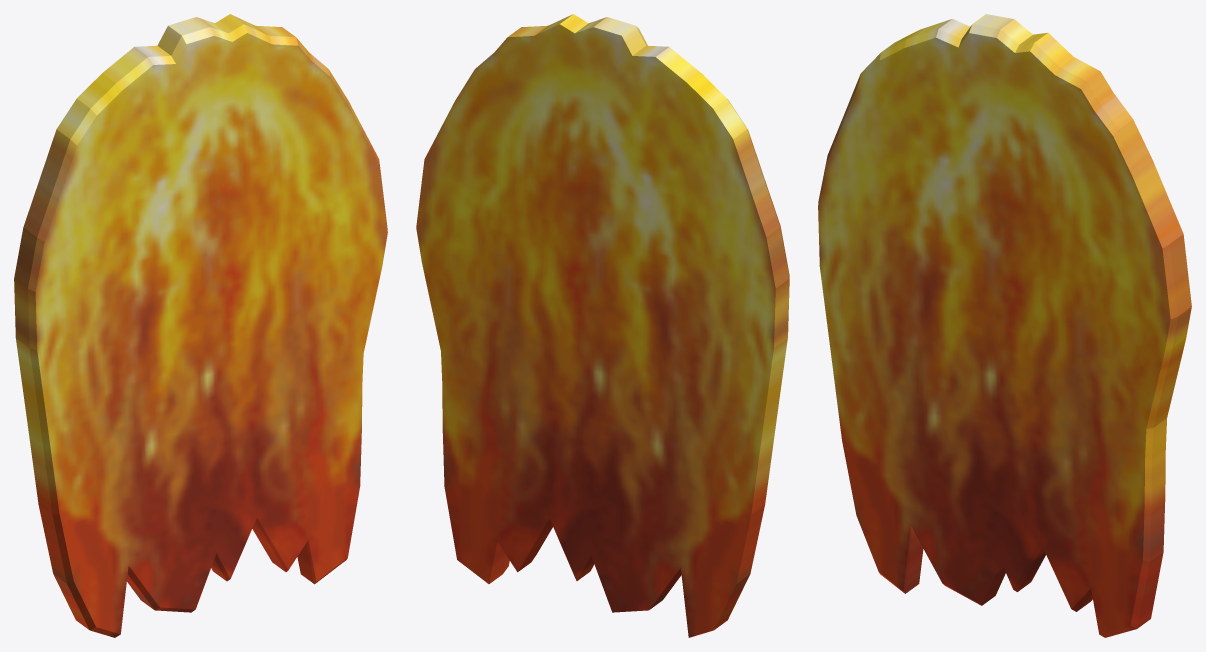
Rendered from Fireball.glb.
3 views of the same model, side by side, from view 1: azimuth 30°, elevation 25°; view 2: azimuth 150°, elevation 25°; view 3: azimuth 330°, elevation 25° (orthographic).
Visible parts, largest first — view 1: Circle; view 2: Circle; view 3: Circle.
Boxes of the visible parts, bbox=[...] form: Circle: bbox=[14, 14, 387, 637]; Circle: bbox=[416, 14, 789, 637]; Circle: bbox=[818, 14, 1191, 637].
Size of the model in its own units: 1.17 by 1.82 by 0.1.
Materials: 1 (1 with a texture image).
